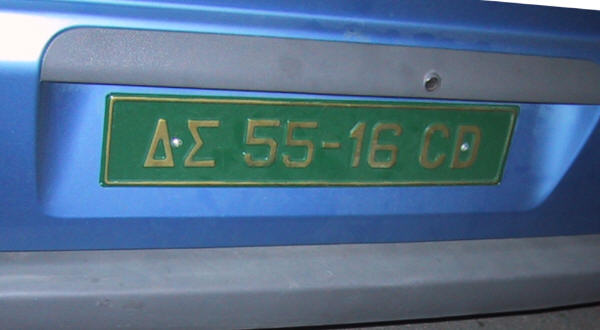license_plate: (101, 92, 521, 189)
